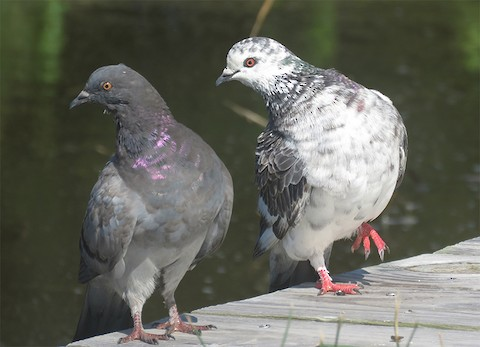pigeon: (58, 58, 242, 346), (211, 35, 406, 302)
